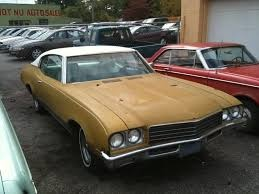Dent: (118, 90, 160, 110), (167, 81, 184, 89)
